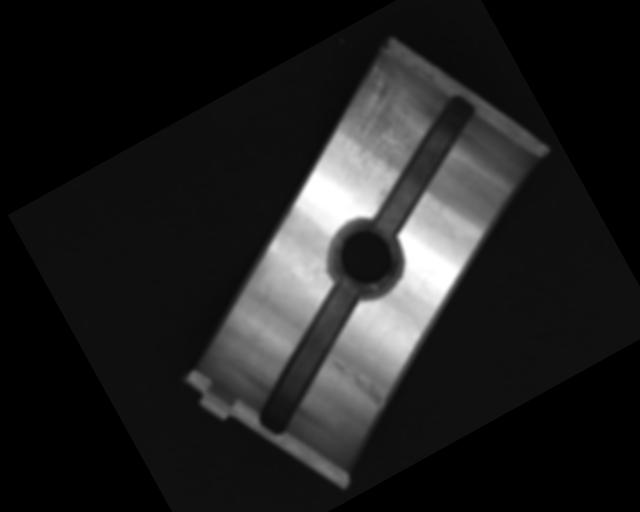gap: (220, 277, 397, 439), (339, 90, 510, 240)
hole: (317, 206, 413, 306)
nick: (330, 346, 391, 421)
scratch: (313, 54, 448, 190)
